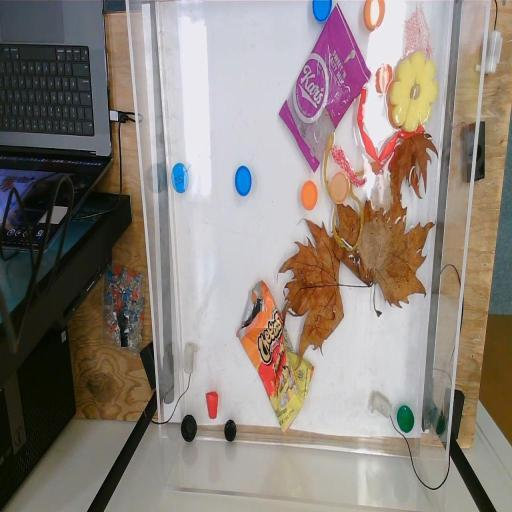Bottle Cap: (330, 172, 350, 205), (363, 0, 385, 28), (234, 164, 252, 196), (375, 62, 393, 94), (300, 180, 318, 212), (179, 413, 197, 443), (172, 162, 188, 194), (396, 404, 414, 432), (312, 0, 332, 24), (224, 417, 236, 443)
Cone Cap: (205, 392, 219, 420)
Leaf: (276, 218, 374, 364), (332, 193, 438, 315), (388, 122, 440, 206)
Netting: (332, 144, 398, 182), (404, 3, 434, 59)
Plastic Bag: (280, 4, 372, 172), (236, 280, 314, 438)
Plastic Strand: (357, 86, 425, 164), (323, 132, 365, 252)
Sponge: (388, 49, 438, 132)
